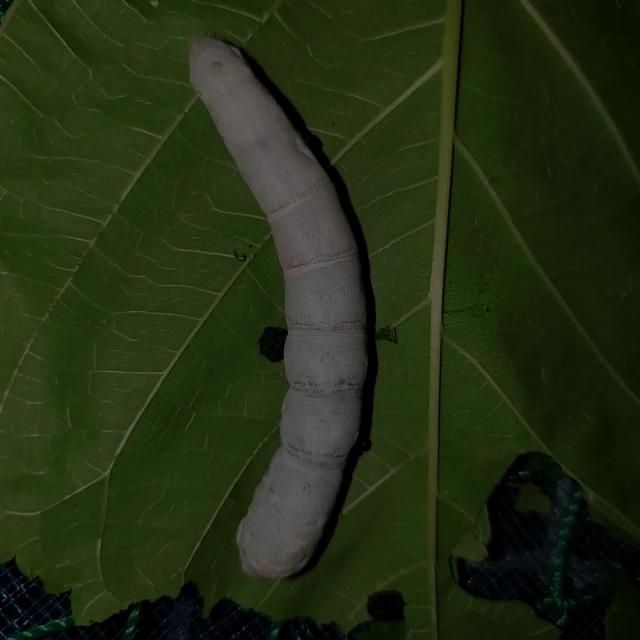Healthy: (153, 19, 426, 588)
